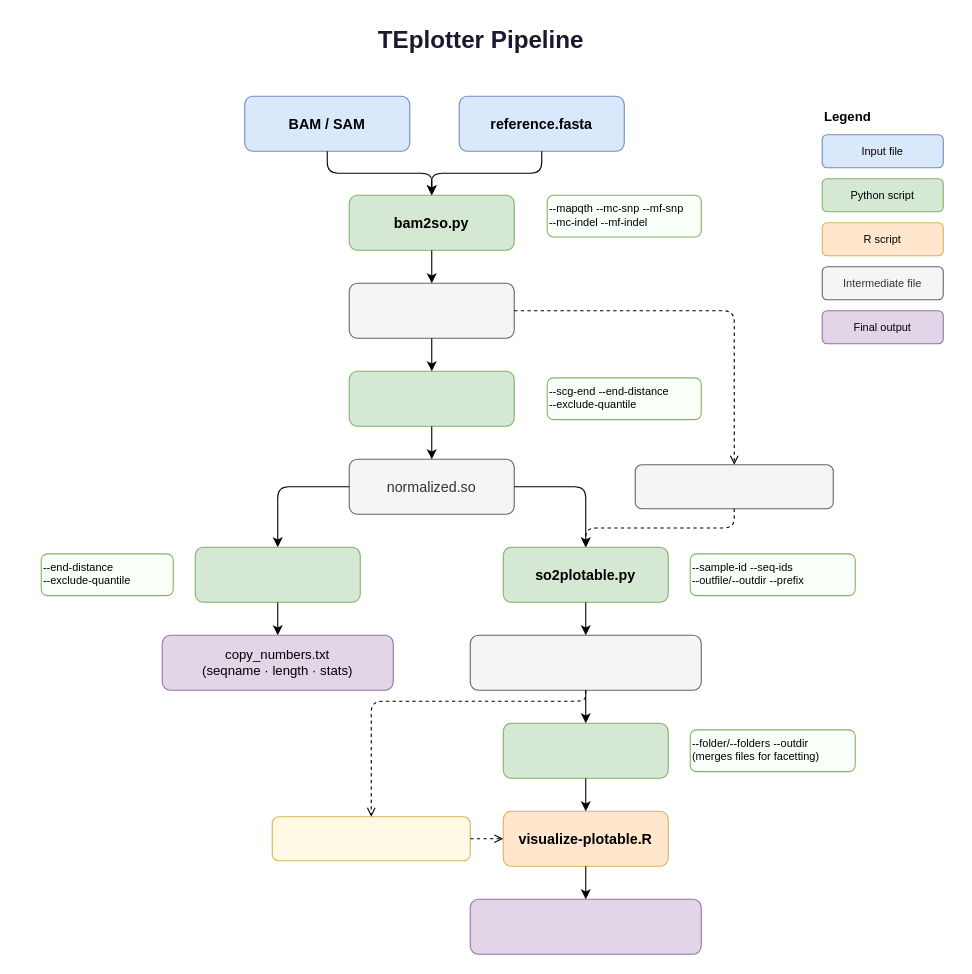
Image size: 972x974. Some labels were removed from this diagram. The centre of each missing label's shape, as x and y in pixels:
.plotable files (one per sequence or combined): the point at 585,662
Can also call Rscript directly on any .plotable file: the point at 370,838
estimate-so.py: the point at 277,574
normalize-so.py: the point at 431,398
Plot output (.png / .pdf / .svg / .eps): the point at 585,926
Raw (non-normalized) SO can also be visualized: the point at 733,486
raw.so: the point at 431,310
run_plotable.py: the point at 585,750
